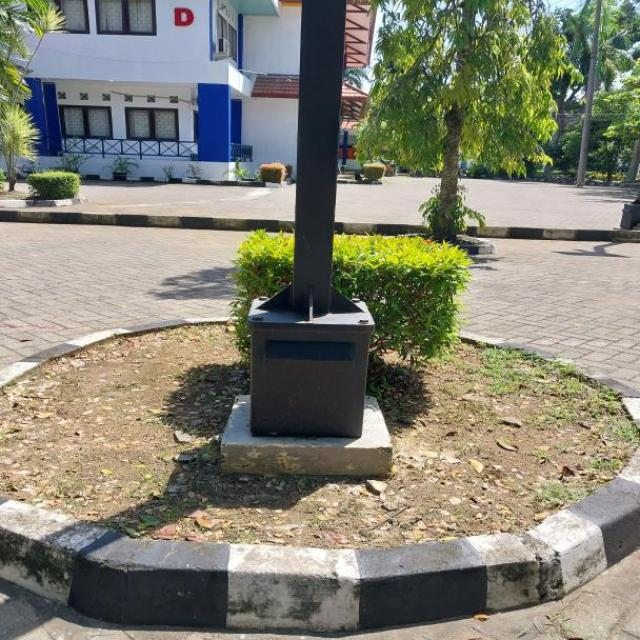electric pole ahead at: (250, 0, 392, 449)
